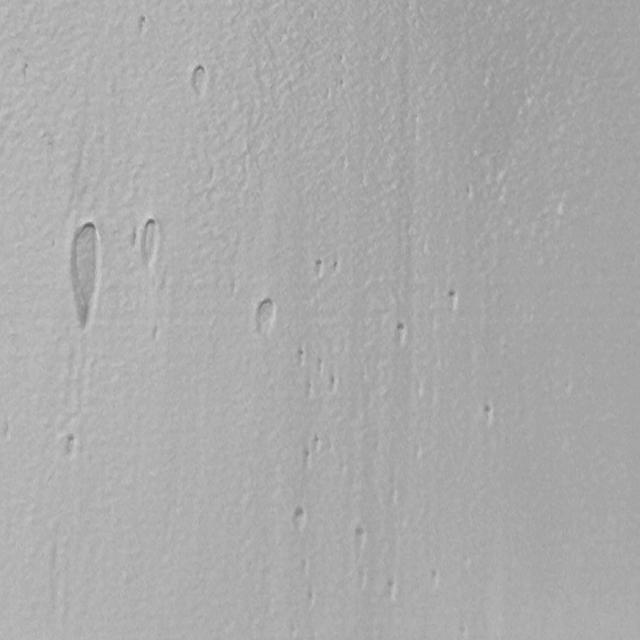pin holes: (71, 215, 101, 335), (134, 218, 165, 270), (254, 297, 278, 332), (187, 64, 209, 99), (60, 431, 82, 461), (444, 286, 464, 313), (479, 401, 498, 428), (290, 505, 308, 533), (391, 318, 409, 346), (352, 526, 370, 554), (384, 577, 402, 602), (136, 13, 152, 36), (312, 256, 325, 278), (328, 372, 341, 394), (429, 569, 443, 589), (302, 446, 314, 469), (296, 347, 308, 368), (304, 378, 316, 399), (312, 434, 324, 452), (331, 258, 343, 276), (336, 52, 348, 67), (336, 77, 347, 91), (315, 359, 325, 374)
